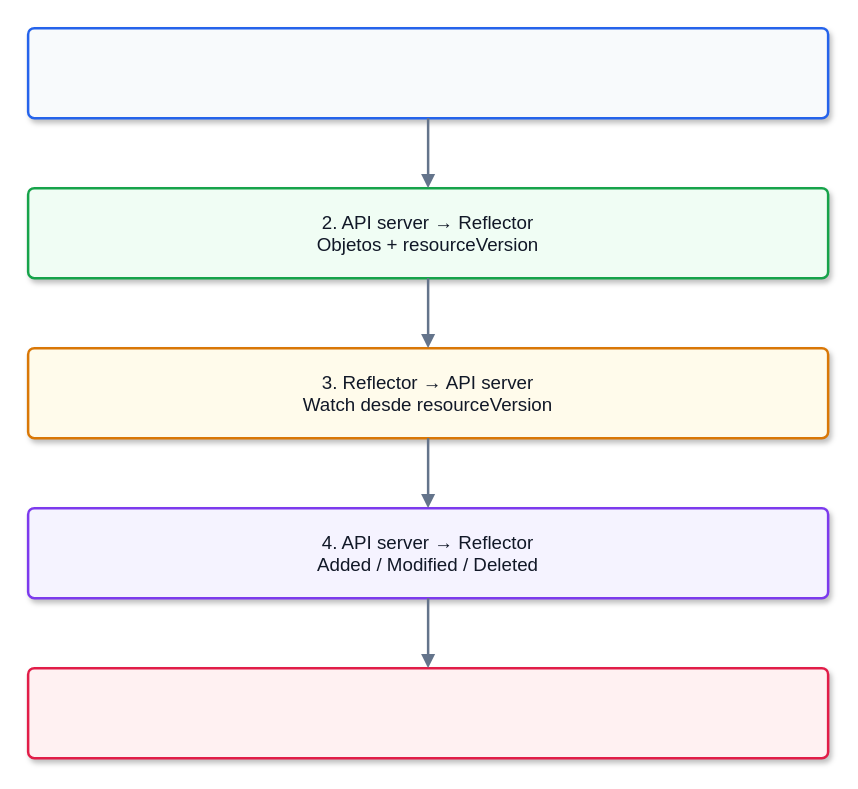
This 858x789 diagram has some shape labels left out. Here are the shapes that lost their labels. From the top down, the centre of each, then its label:
At [428,74]: "1. Reflector → API server List".
At [428,714]: "5. Reflector → DeltaFIFO Inserta delta".
